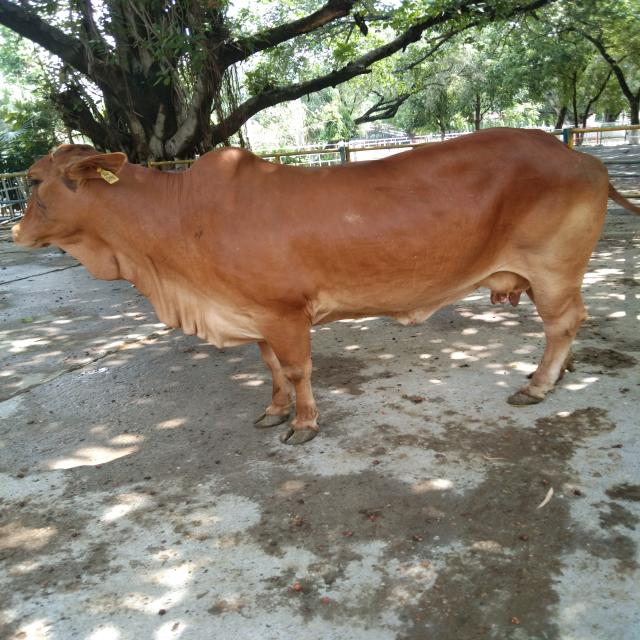1: (173, 147, 271, 174)
Hoof: (280, 423, 320, 445), (506, 388, 544, 406), (253, 411, 289, 428)
